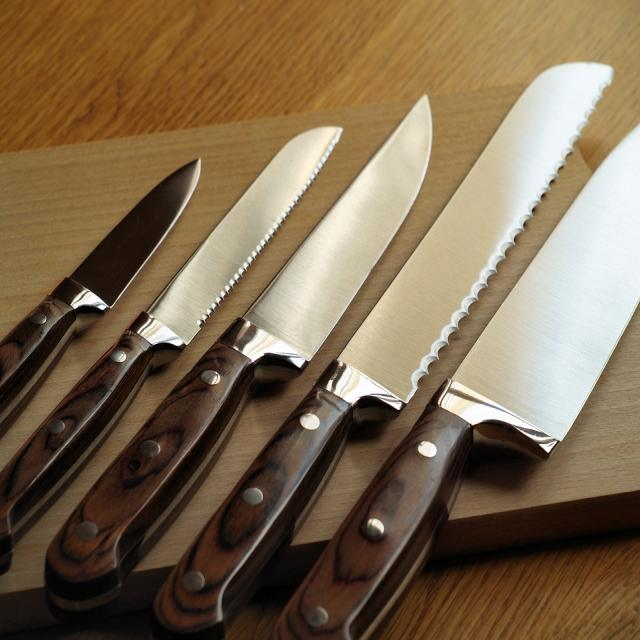knife: (152, 61, 613, 639), (41, 89, 432, 609), (0, 126, 343, 574), (0, 156, 201, 442)
